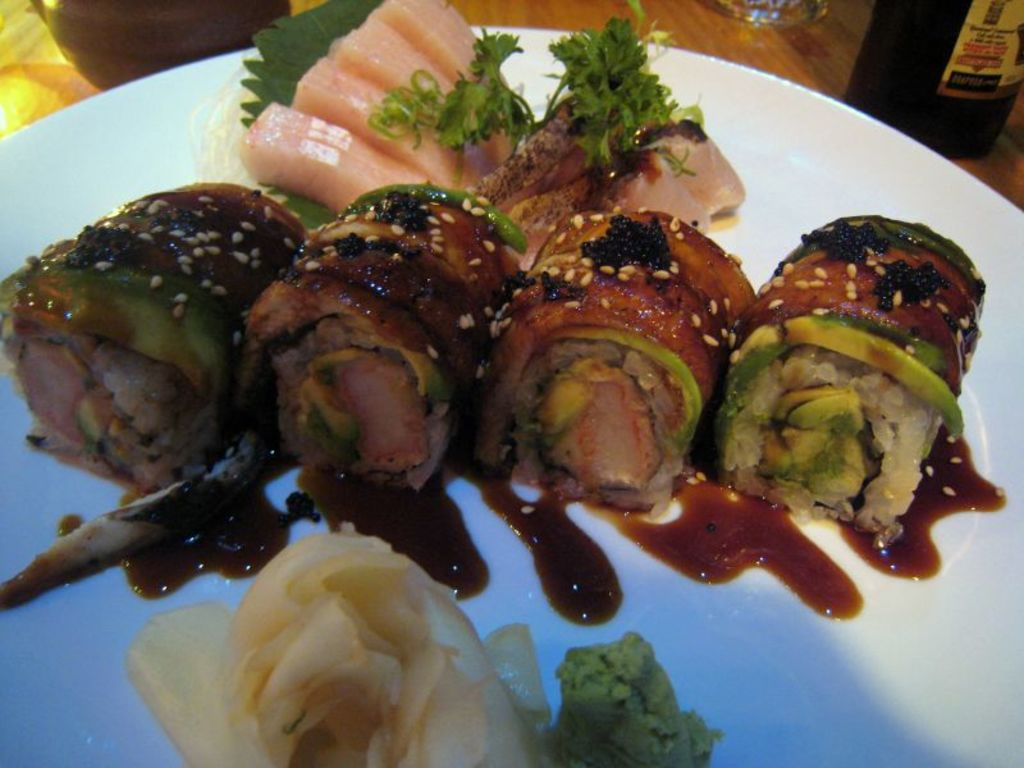sushi: (0, 177, 312, 611), (724, 216, 1000, 545), (454, 211, 754, 504), (228, 195, 517, 490)
